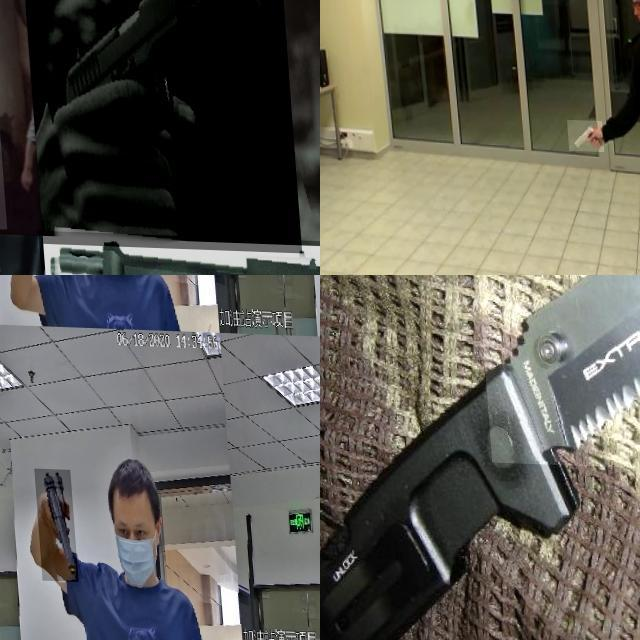-: (468, 275, 640, 472)
gun-knife-thesis - v11 Yolov5 augmented: (19, 0, 297, 249), (0, 0, 50, 227), (27, 468, 70, 581), (17, 275, 51, 316), (560, 118, 598, 150)
